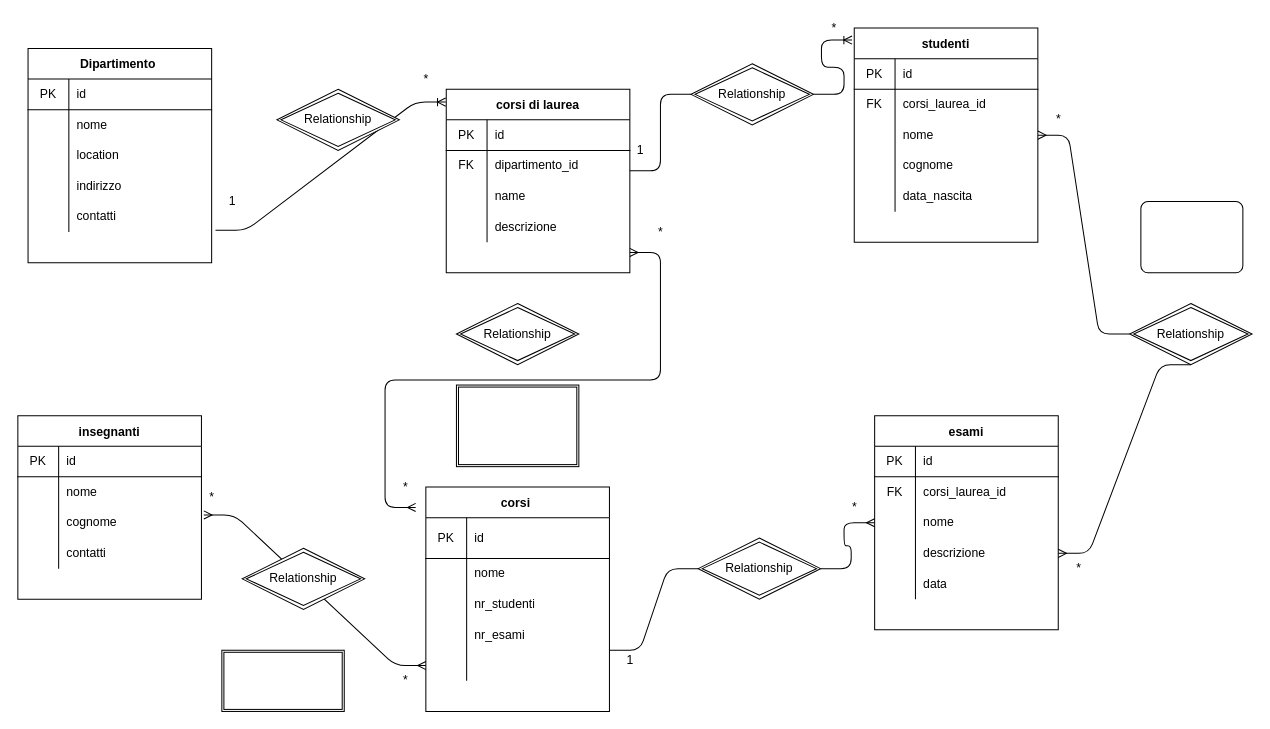
Some shapes in this 1270 by 729 pixel diagram are drawn without their labels. The centre of each missing label's shape, as x and y in pixels:
"corsi_id insegnanti_id" belongs at (x=282, y=680).
"corsi_laurea_id corsi_id" belongs at (x=517, y=425).
"studenti_id esami_id voto" belongs at (x=1191, y=236).
